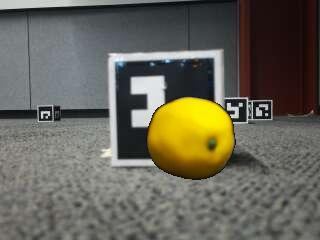lemon: (148, 97, 234, 180)
